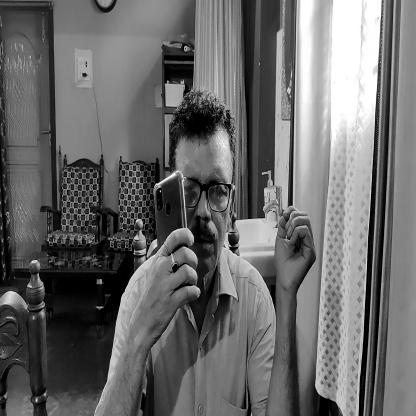Normal: (182, 107, 237, 271)
